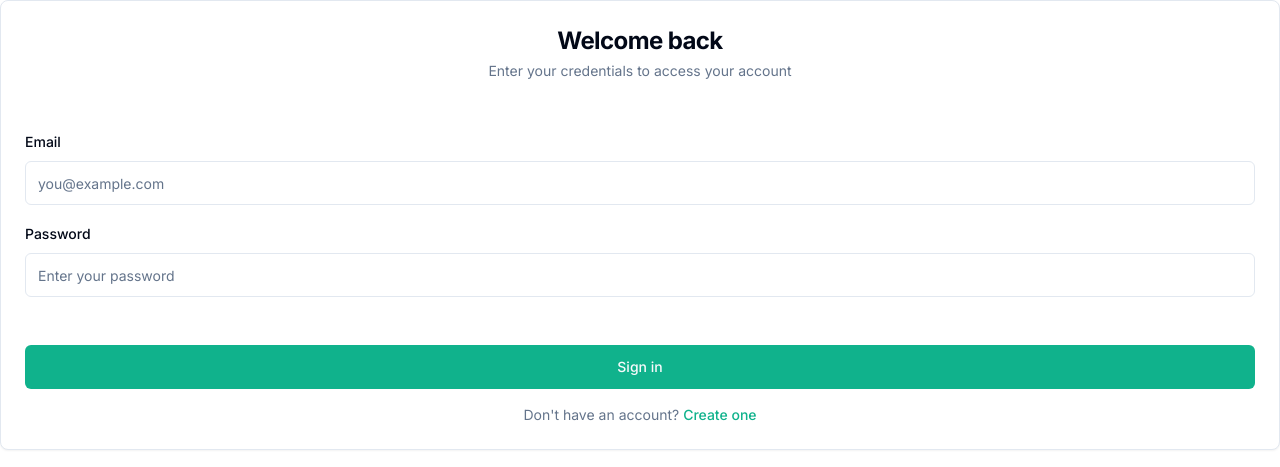
Test: LoginPage › disables form while loading
Type "test@example.com" into the field labelled "Email" at x=640, y=183, box [25, 161, 1255, 205]
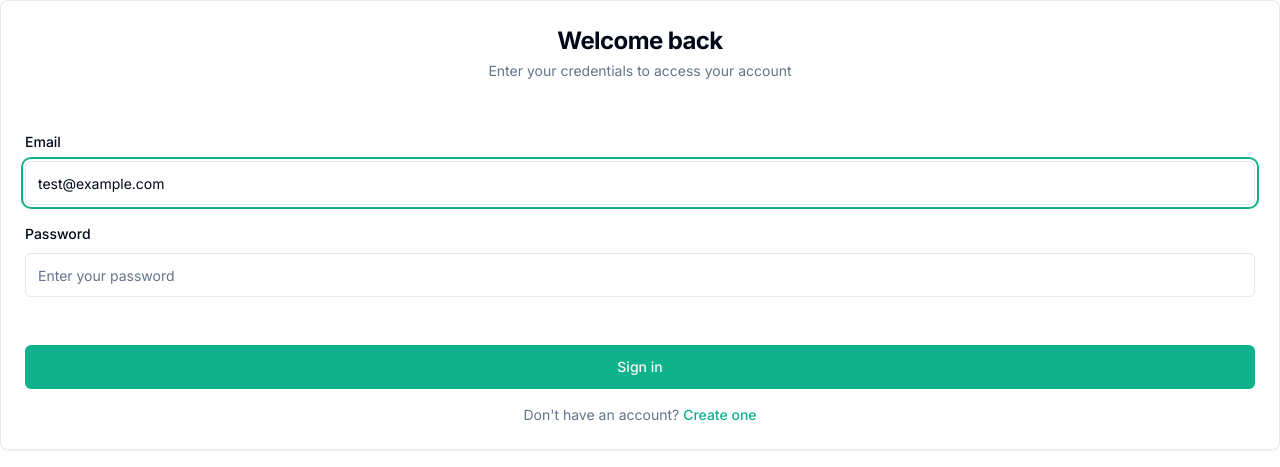
Type "password123" into the password field labelled "Password" at x=640, y=275, box [25, 253, 1255, 297]
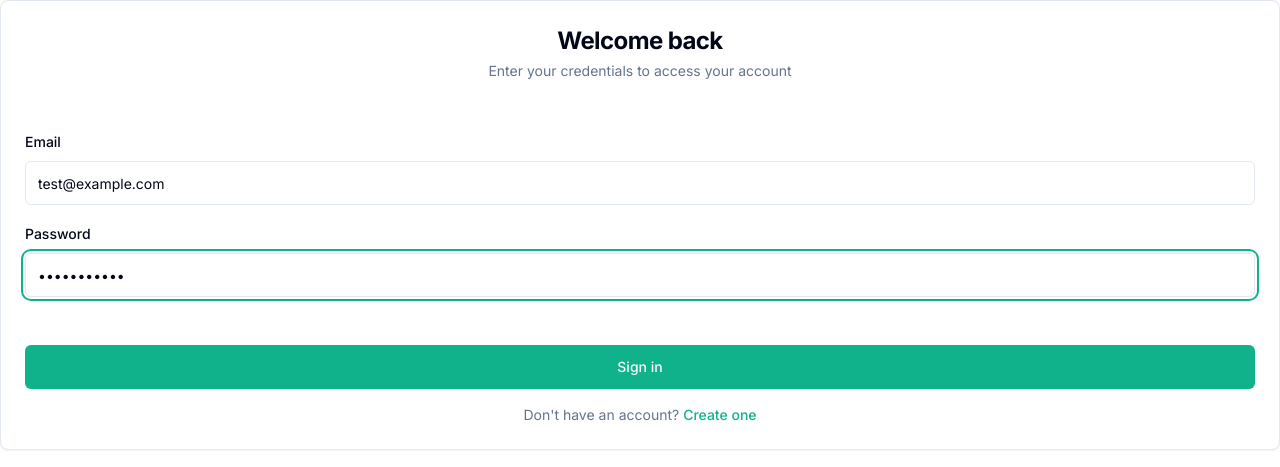
Click the button "Sign in" at x=640, y=367, box [25, 345, 1255, 389]
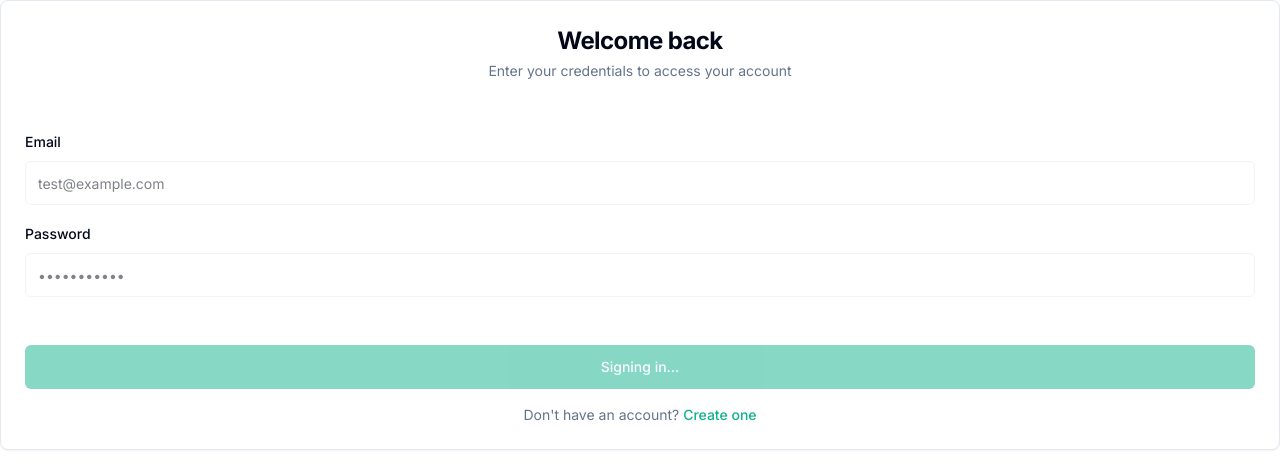
expect the button "Signing in..." is disabled: met, box [25, 345, 1255, 389]
expect the field labelled "Email" is disabled: met, box [25, 161, 1255, 205]
expect the password field labelled "Password" is disabled: met, box [25, 253, 1255, 297]
